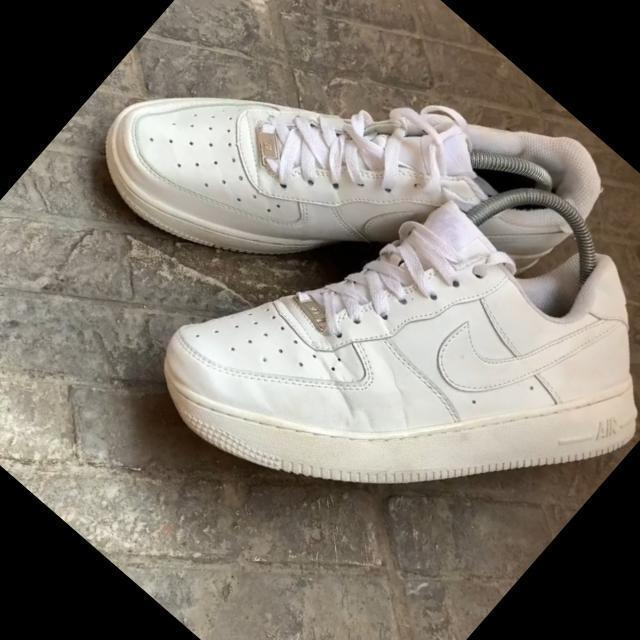nike fake air force: (126, 61, 640, 640), (63, 0, 622, 449)
